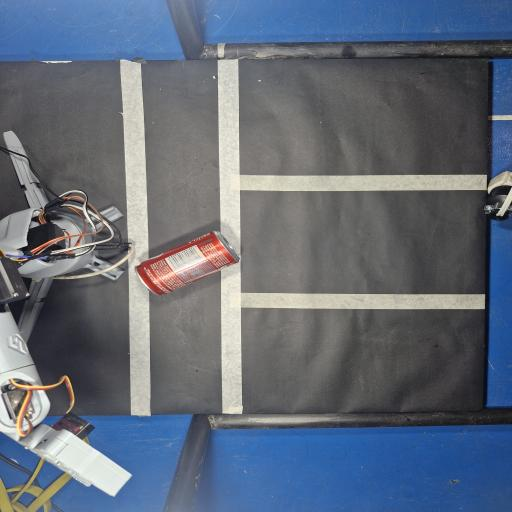lata: (136, 231, 239, 295)
